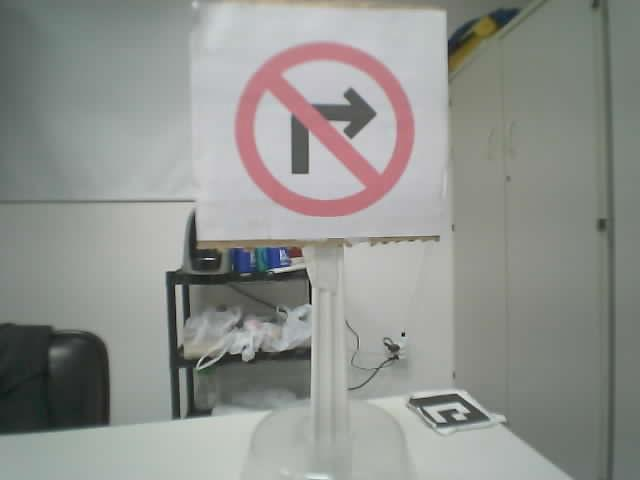R-4b_proibido-direita: (234, 41, 413, 217)
